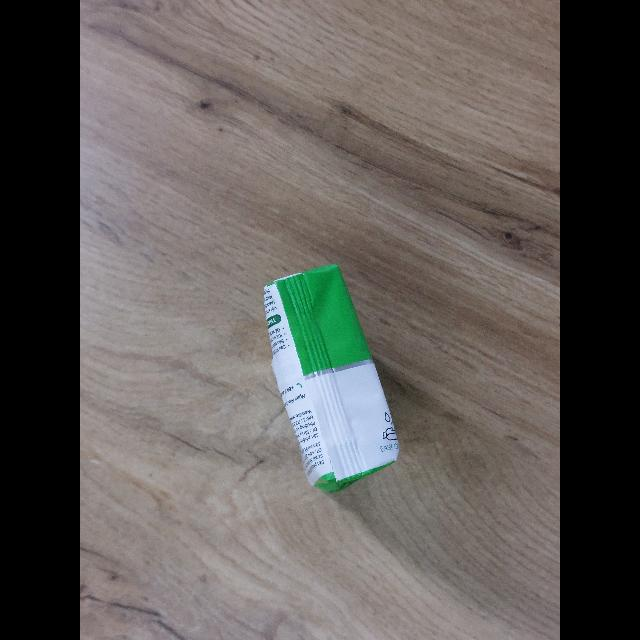khan_giay: (264, 265, 399, 492)
